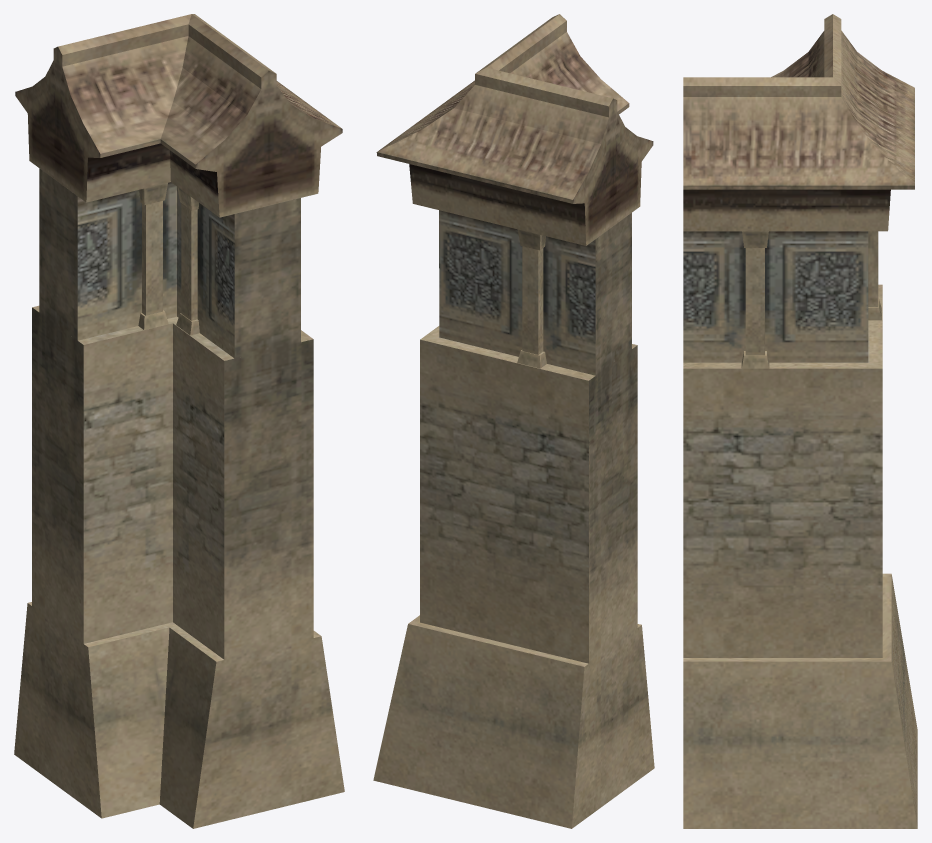
File: desert-middledam-05.fbx
3 renders of one model, left to right at view 1: azimuth 30°, elevation 25°; view 2: azimuth 150°, elevation 25°; view 3: azimuth 270°, elevation 25°, orthographic. The views are drawn at different scales.
Visible parts, largest first — view 1: desert-middledam-02; view 2: desert-middledam-02; view 3: desert-middledam-02.
Boxes of the visible parts, x1,y1,x2,y2 form: desert-middledam-02: [14, 14, 344, 828]; desert-middledam-02: [373, 14, 654, 828]; desert-middledam-02: [683, 14, 917, 828].
Size of the model in its own units: 2.35 by 7.92 by 2.35.
